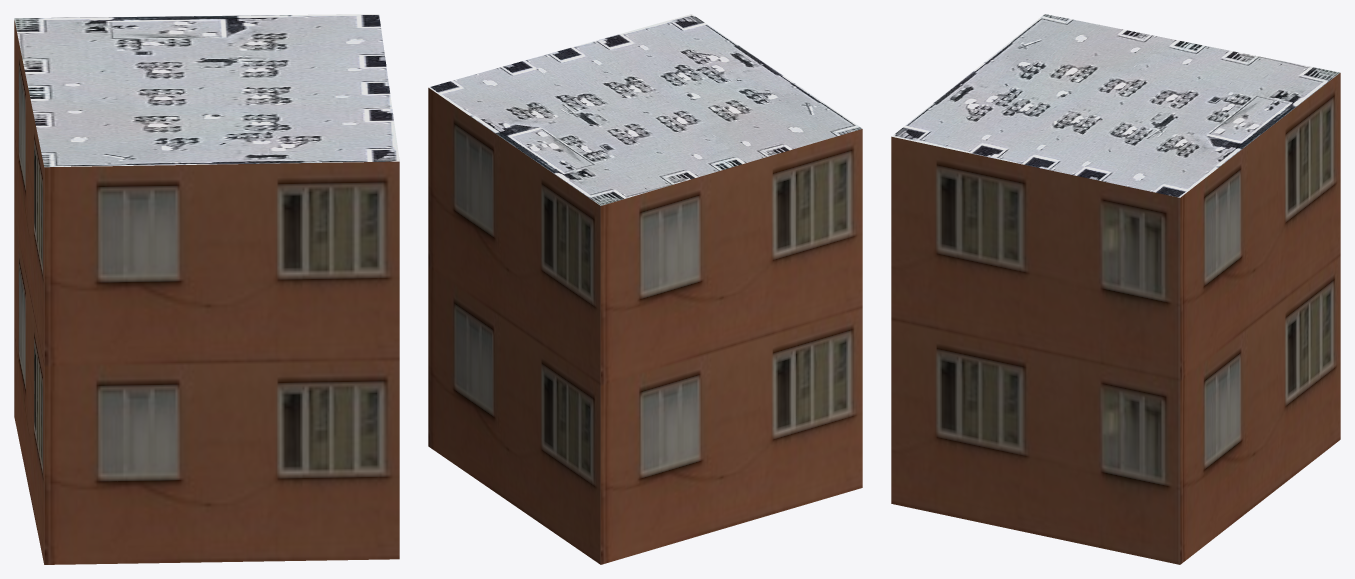
File: ResTex__4001.fbx
The picture shows the model from 3 angles, left to right: view 1: azimuth 30°, elevation 25°; view 2: azimuth 150°, elevation 25°; view 3: azimuth 270°, elevation 25°; orthographic projection. The views are drawn at different scales.
Visible parts, largest first — view 1: CityEngineMaterial_20_m, CityEngineMaterial_4_m; view 2: CityEngineMaterial_20_m, CityEngineMaterial_4_m; view 3: CityEngineMaterial_20_m, CityEngineMaterial_4_m.
Boxes of the visible parts, box(x1,y1,x2,y2) form: CityEngineMaterial_20_m: box(14, 20, 399, 564); CityEngineMaterial_4_m: box(14, 14, 399, 167); CityEngineMaterial_20_m: box(428, 88, 862, 564); CityEngineMaterial_4_m: box(428, 14, 862, 205); CityEngineMaterial_20_m: box(891, 73, 1340, 564); CityEngineMaterial_4_m: box(892, 14, 1339, 197).
Bounding box in the file's own units: 6.44 × 6 × 6.65.
2 materials, 2 textured.
